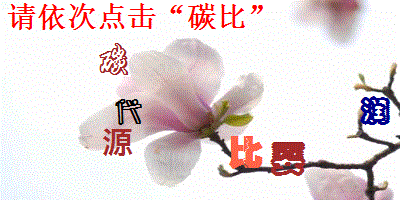result: (186, 2, 246, 30)
text: (269, 139, 307, 178), (229, 133, 265, 171), (359, 94, 392, 128), (98, 42, 129, 78), (102, 126, 134, 160), (114, 96, 143, 125)
